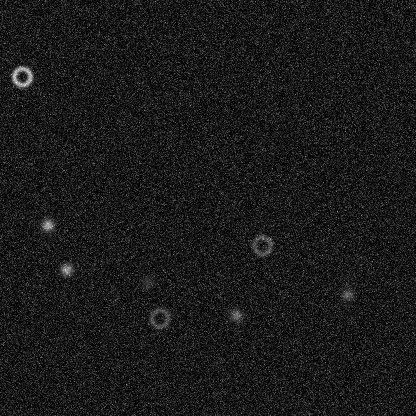Ring: (9, 64, 33, 88), (147, 306, 171, 330), (250, 233, 274, 257)
Spot: (58, 261, 74, 277), (39, 216, 55, 232), (339, 286, 355, 302), (139, 273, 155, 289), (227, 307, 243, 323)
